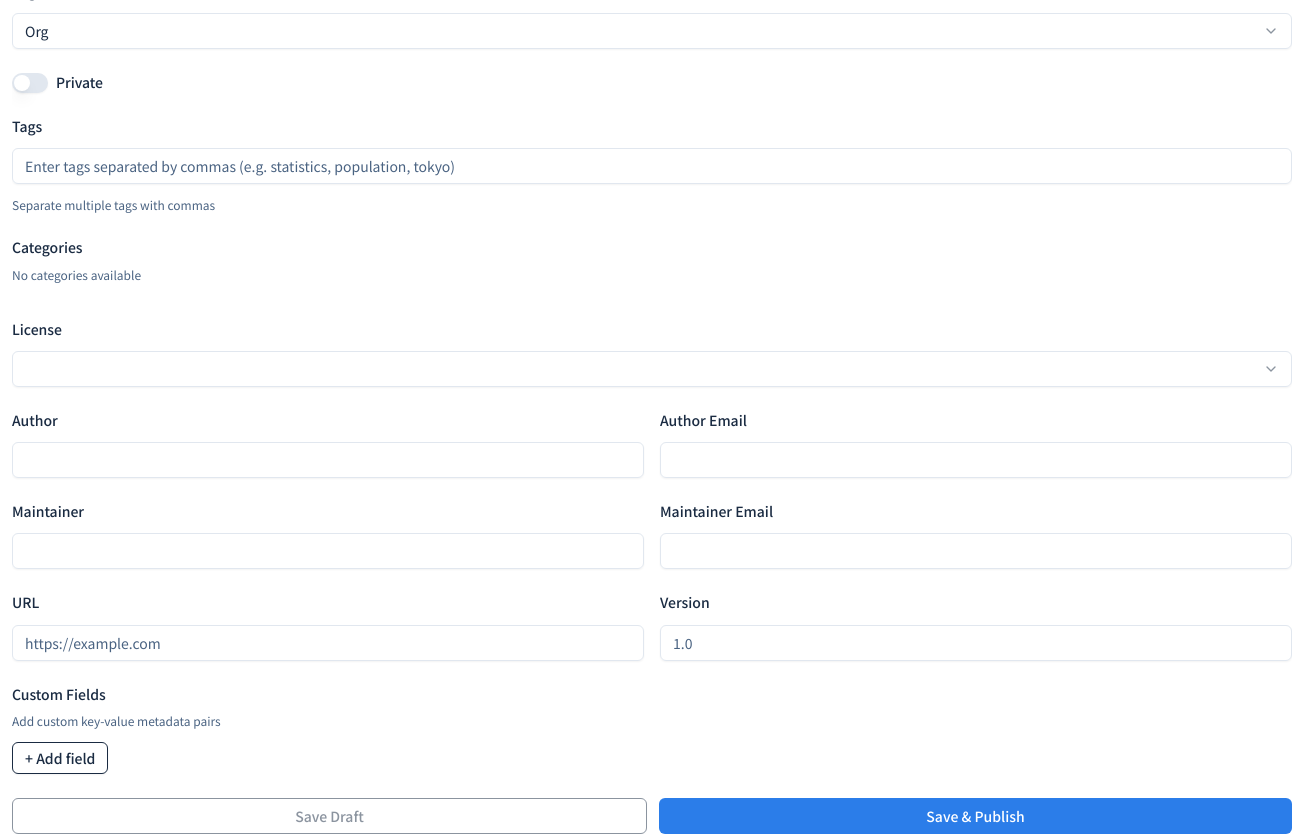
Test: DatasetForm (draft flows) › edit mode (draft) — save & publish › should report a publish-only failure while keeping the saved draft editable
(page scrolled)
Click the button "Save & Publish".
click(976, 816)  # box 659,798 -> 1292,833
(page scrolled)
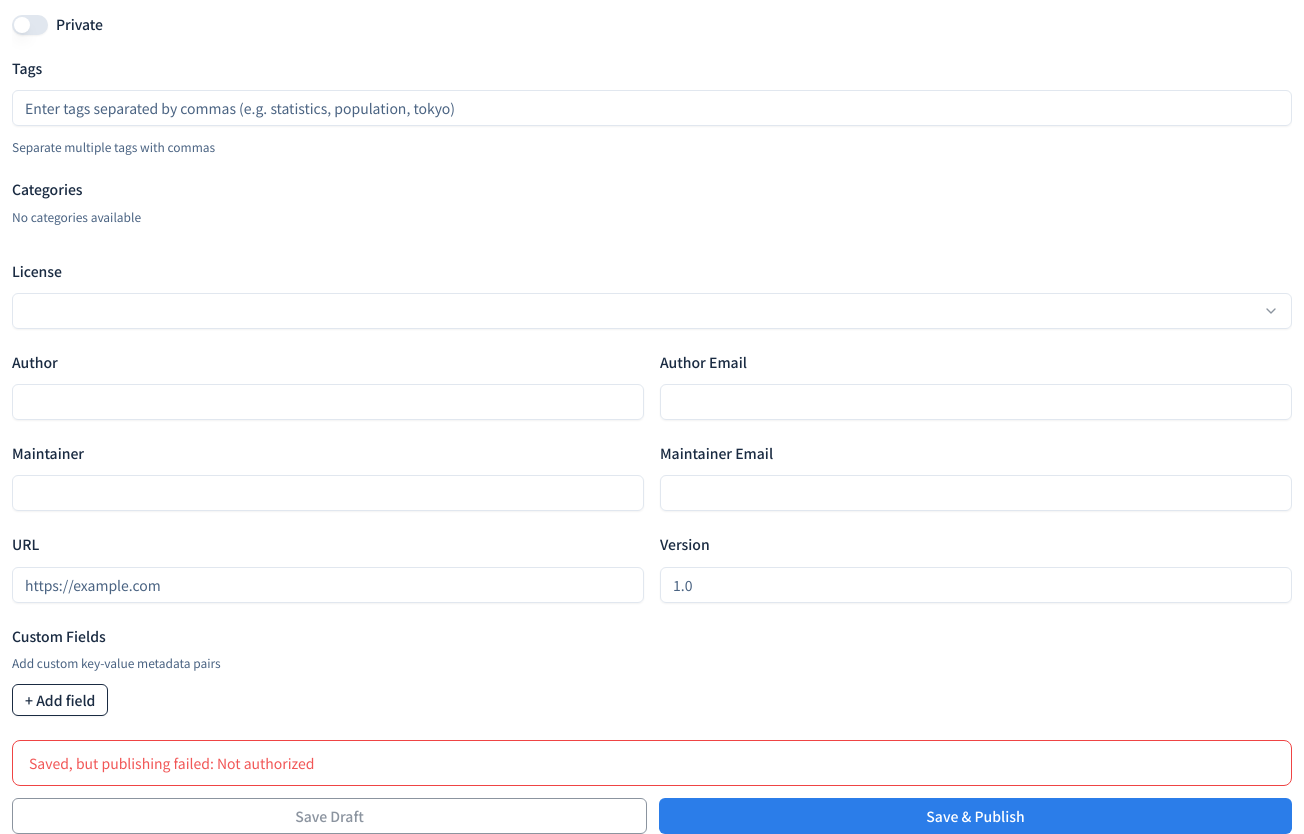
Expected: the button "Save Draft" is disabled, 12,798 -> 647,833
Now the text "Saved, but publishing failed: Not authorized" is shown, box 29,753 -> 314,773
